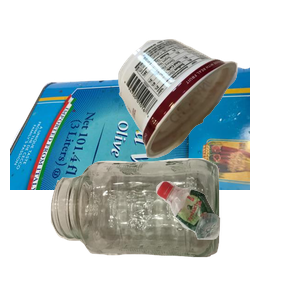glass: (48, 156, 260, 300)
metal: (10, 64, 250, 244)
plastic: (153, 178, 300, 300)
trash: (116, 36, 300, 187)
